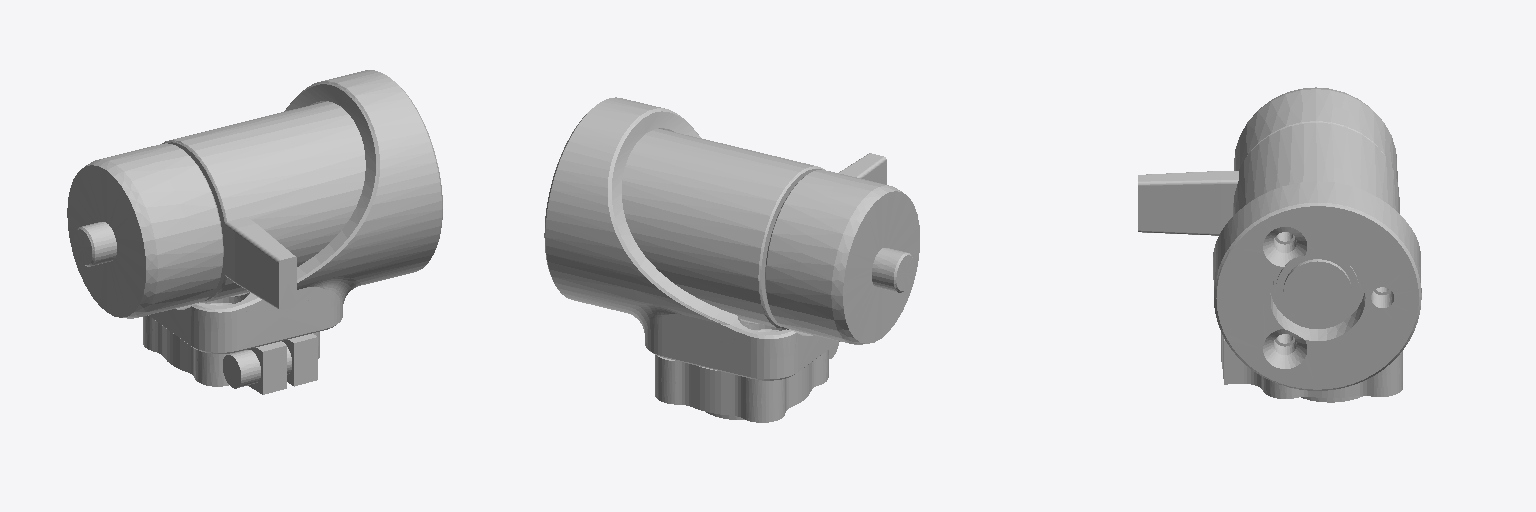
File: bracket_left_rear.obj
The picture shows the model from 3 angles: view 1: azimuth 30°, elevation 25°; view 2: azimuth 150°, elevation 25°; view 3: azimuth 270°, elevation 25°; orthographic projection.
Visible parts, largest first — view 1: Body2.008, Body1.055_Body1.031, Body1.050_Body1.028; view 2: Body2.008, Body1.055_Body1.031, Body1.050_Body1.028; view 3: Body1.055_Body1.031, Body2.008, Body1.050_Body1.028.
Part boxes in pixels (x1,y1,x2,y2): Body2.008: (67,101,365,318); Body1.055_Body1.031: (148,70,442,353); Body1.050_Body1.028: (143,315,319,394); Body2.008: (622,128,919,344); Body1.055_Body1.031: (544,97,839,380); Body1.050_Body1.028: (655,342,838,422); Body1.055_Body1.031: (1213,181,1421,390); Body2.008: (1138,87,1399,346); Body1.050_Body1.028: (1221,333,1402,402).
Bounding box in the file's own units: 0.0524 × 0.0412 × 0.0414.